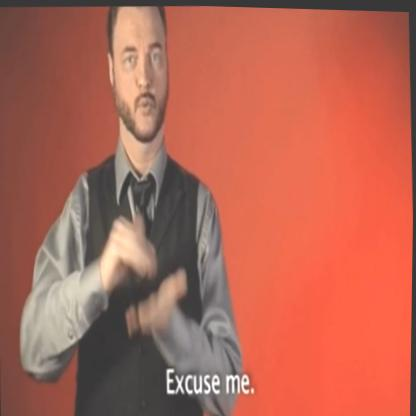ExcuseMe: (7, 0, 256, 416)
